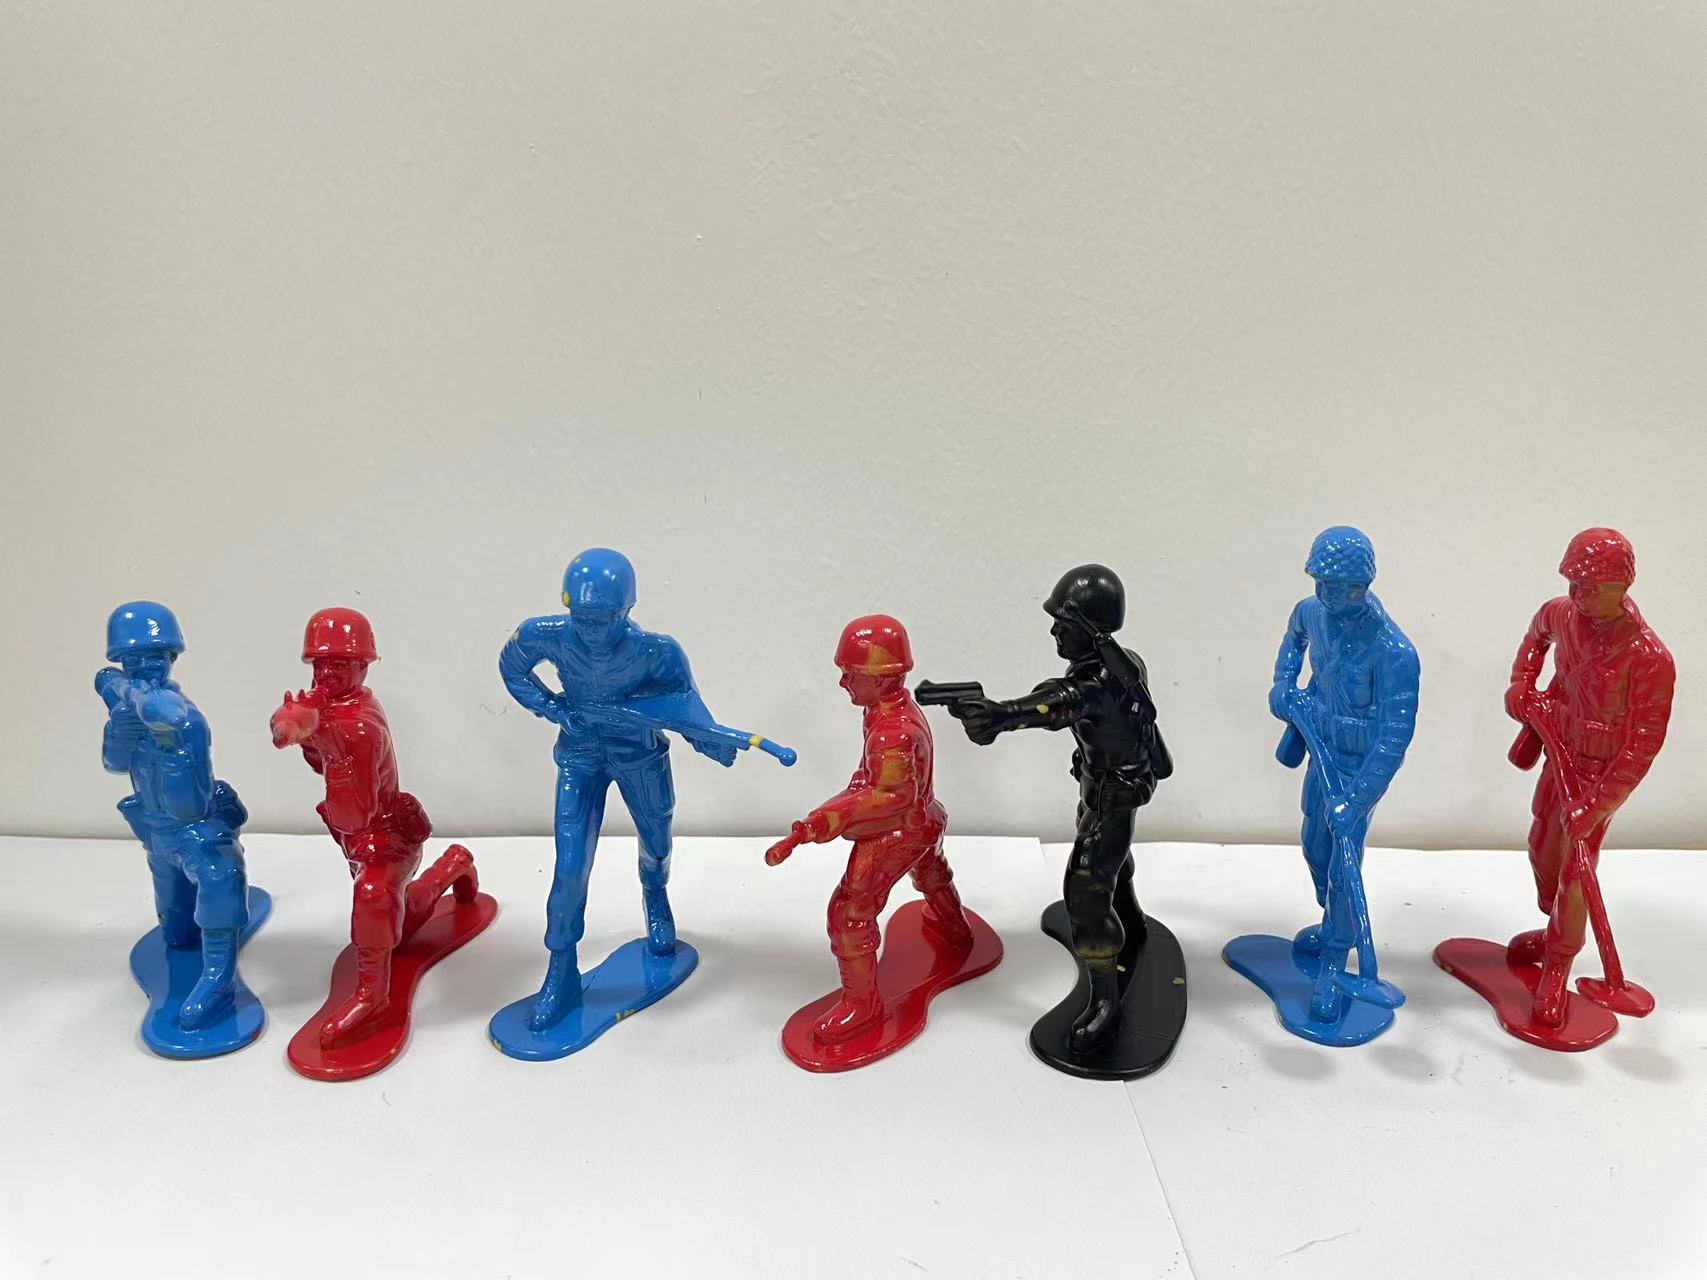black: (950, 551, 1219, 1088)
blue: (484, 553, 784, 1062), (1212, 489, 1440, 1086), (40, 596, 272, 1064)
red: (1449, 514, 1707, 1065), (255, 602, 501, 1068), (759, 600, 988, 1053)
